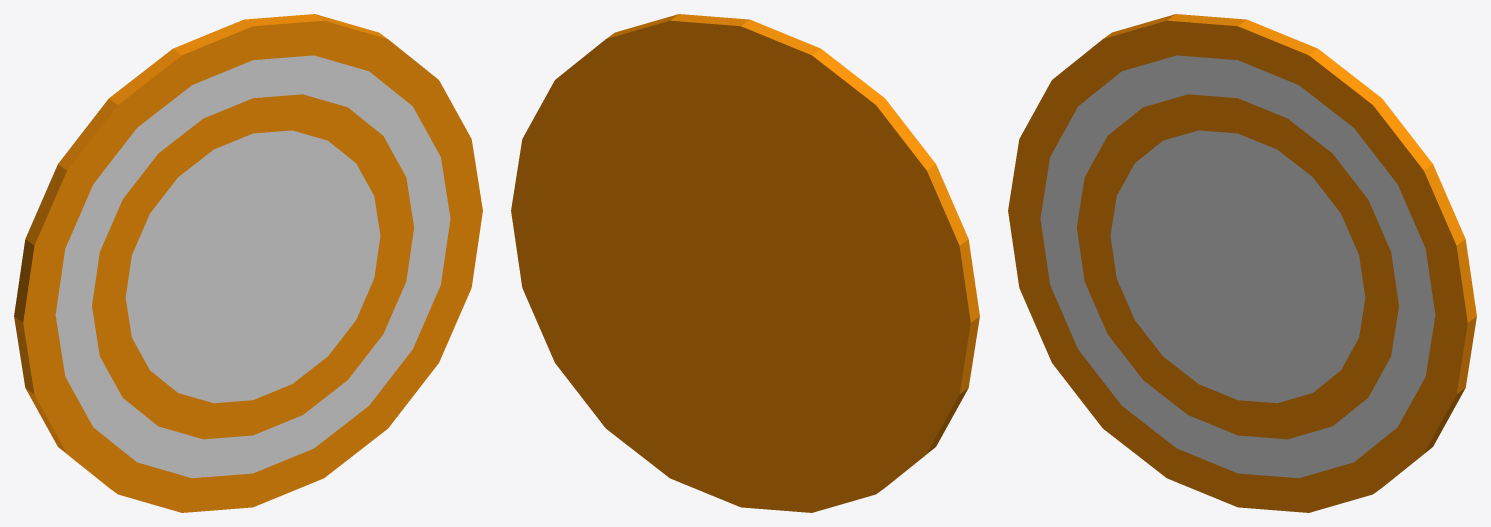
File: stand_2.fbx
3 views of the same model, side by side, from view 1: azimuth 30°, elevation 25°; view 2: azimuth 150°, elevation 25°; view 3: azimuth 330°, elevation 25° (orthographic).
Visible parts, largest first — view 1: Cylinder; view 2: Cylinder; view 3: Cylinder.
Boxes of the visible parts, x1,y1,x2,y2 form: Cylinder: (14,14,482,512); Cylinder: (511,14,979,512); Cylinder: (1008,14,1476,512).
Bounding box in the file's own units: 482 × 482 × 16.6.
